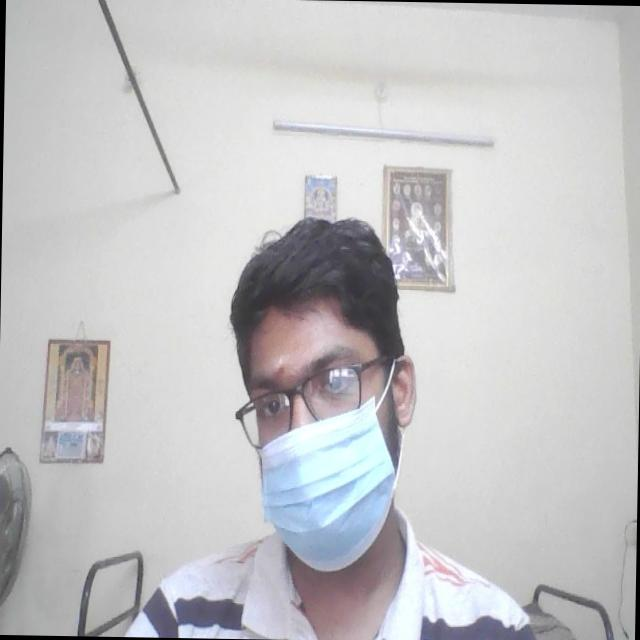Focused: (232, 332, 383, 516)
